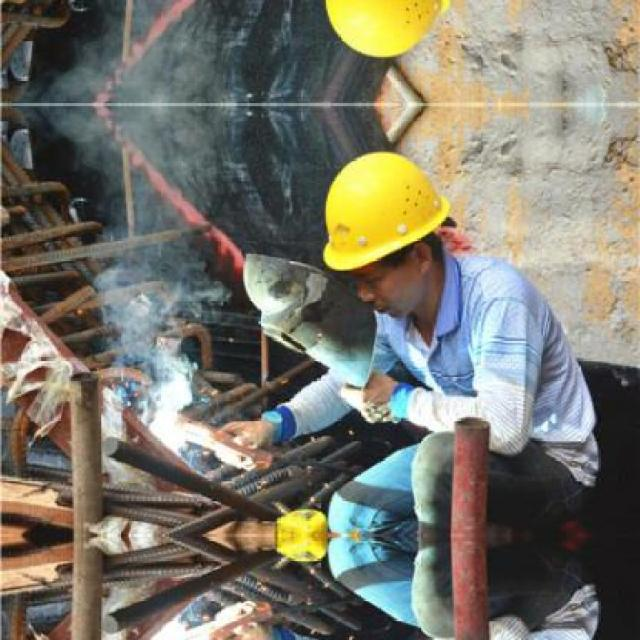helmet: (305, 151, 449, 317), (304, 0, 450, 57)
